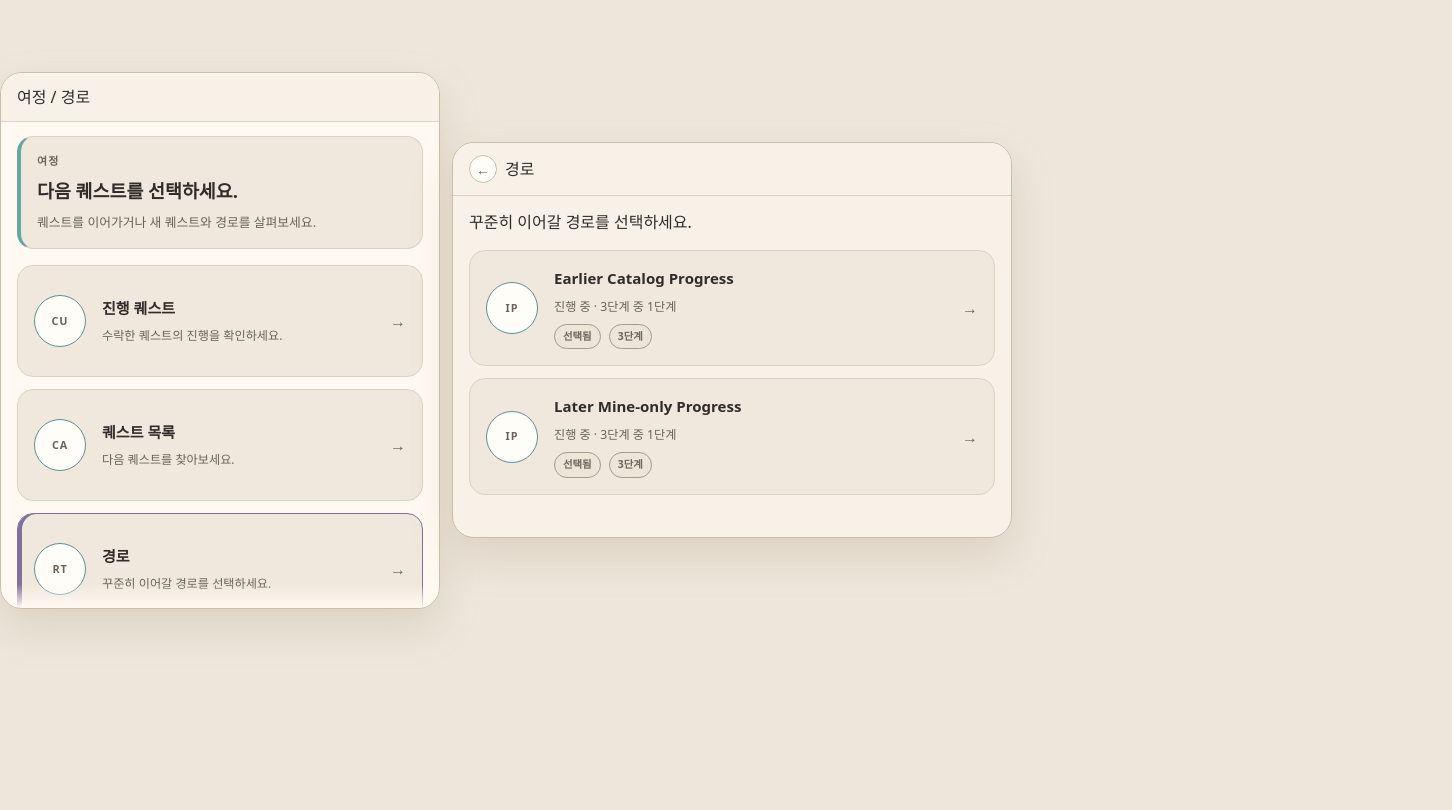
Test: Journey에서 Quest와 QuestRoute를 볼 때 › canonical Home callback이 initial surface를 지정하면 › 복수 Route에서 첫 진행 Route를 자동으로 열지 않는다
The width and height of the screenshot is (1452, 810).
Expected: the button "IP Later Mine-only Progress 진행 중 · 3단계 중 1단계 선택됨 3단계 →" is shown, [469,378,995,495]
Click the button "IP Earlier Catalog Progress 진행 중 · 3단계 중 1단계 선택됨 3단계 →": coordinates (512, 308) [469,250,995,366]
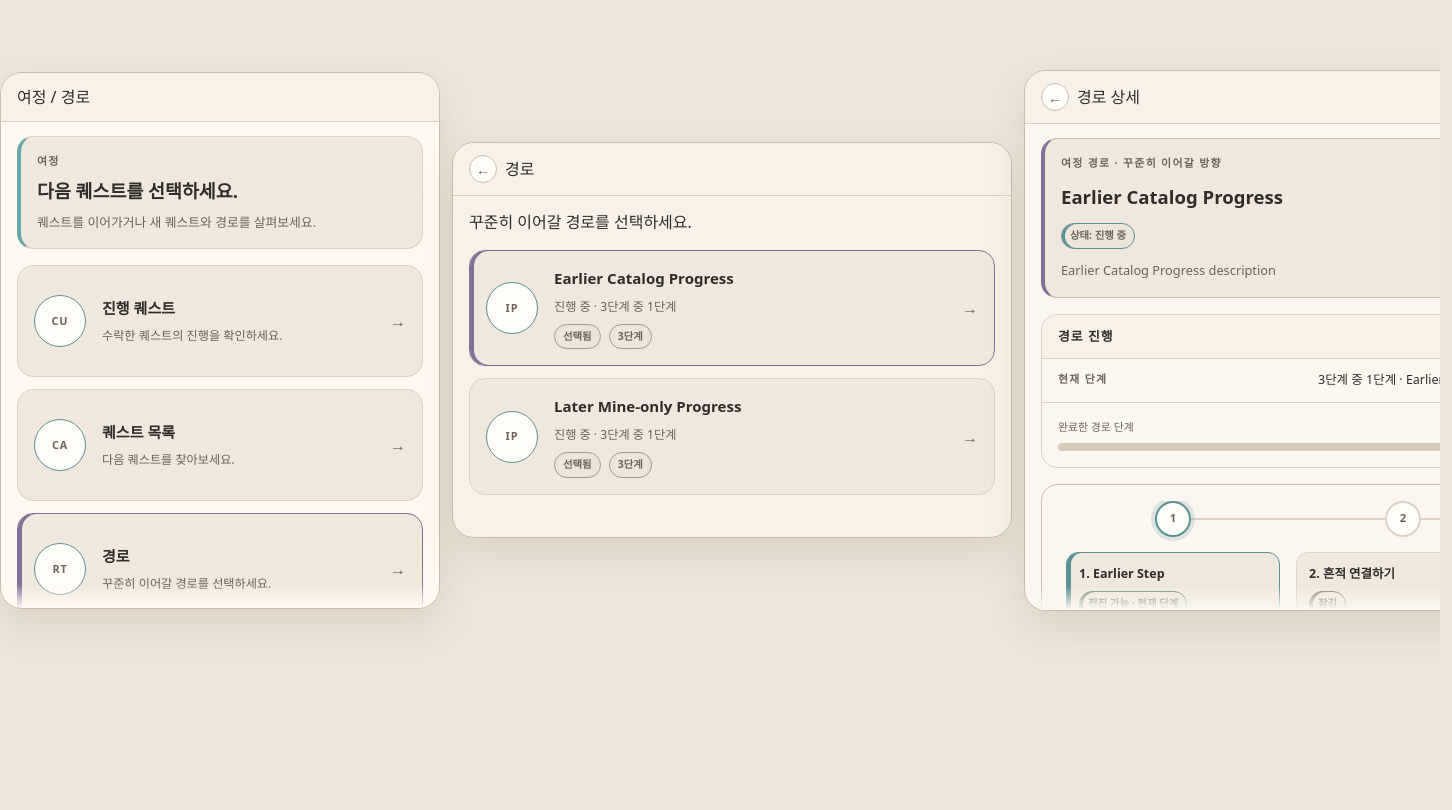
Expected: the text "Earlier Catalog Progress description" is shown, [1061,260,1276,278]
